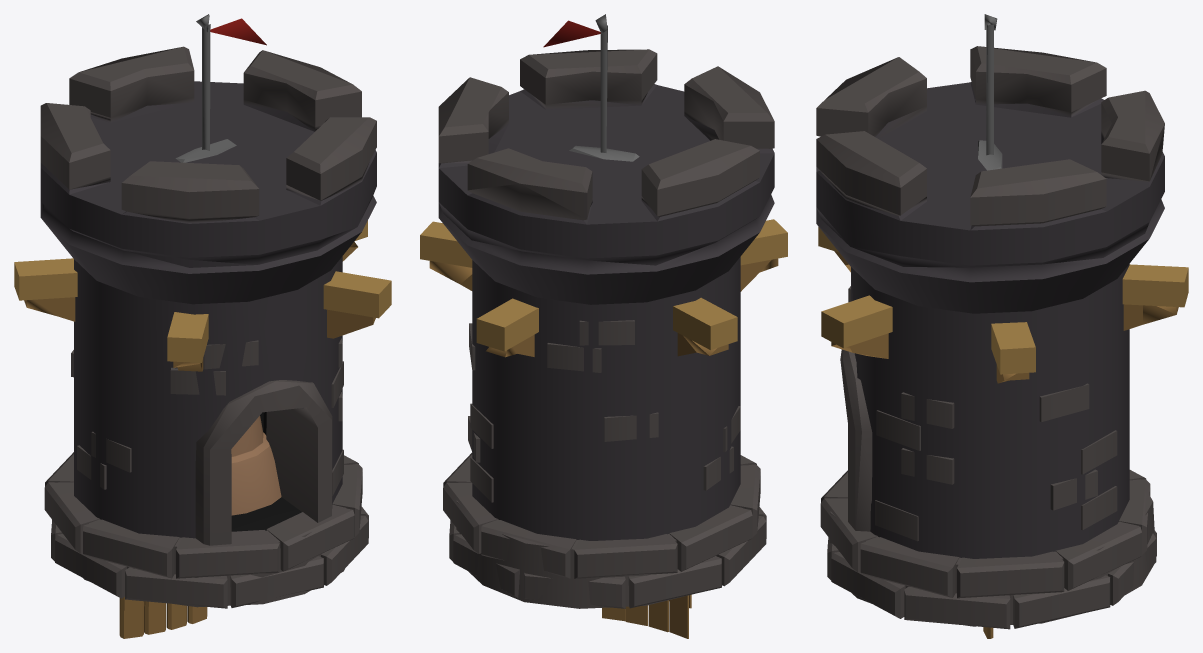
The model's file is platformer.glb.
3 views of the same model, side by side, from view 1: azimuth 30°, elevation 25°; view 2: azimuth 150°, elevation 25°; view 3: azimuth 270°, elevation 25° (orthographic). The views are drawn at different scales.
Visible parts, largest first — view 1: body (×3), door; view 2: body, door; view 3: body.
Boxes of the visible parts, x1,y1,x2,y2 form: body (×3): [14, 14, 391, 608]; door: [119, 598, 207, 638]; body: [420, 14, 787, 608]; door: [602, 595, 688, 638]; body: [816, 14, 1188, 629].
Bounding box in the file's own units: 9.44 × 16.64 × 8.98.
